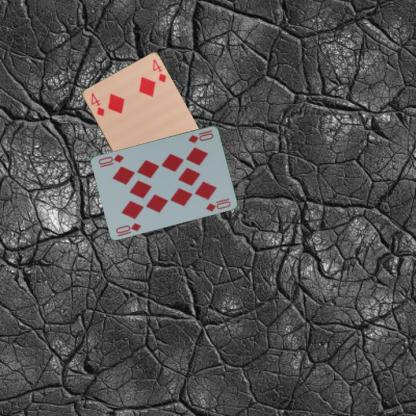10d: (113, 220, 142, 238), (186, 130, 215, 144)
4d: (88, 90, 106, 117)
